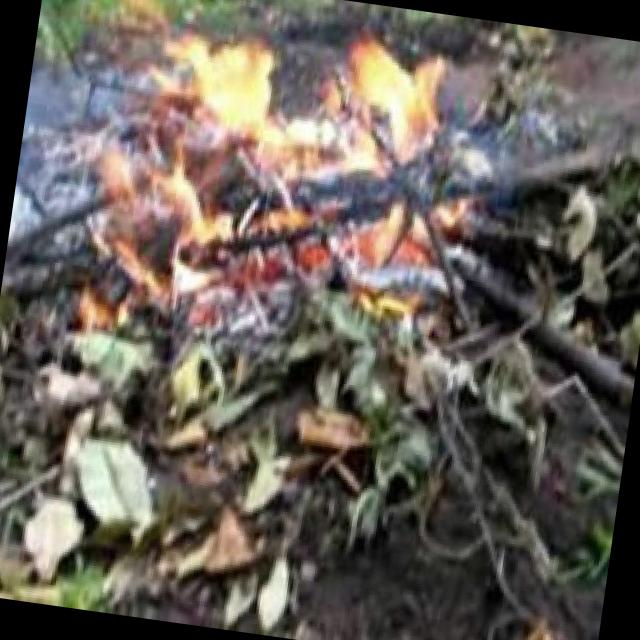Fire: (63, 0, 502, 358)
